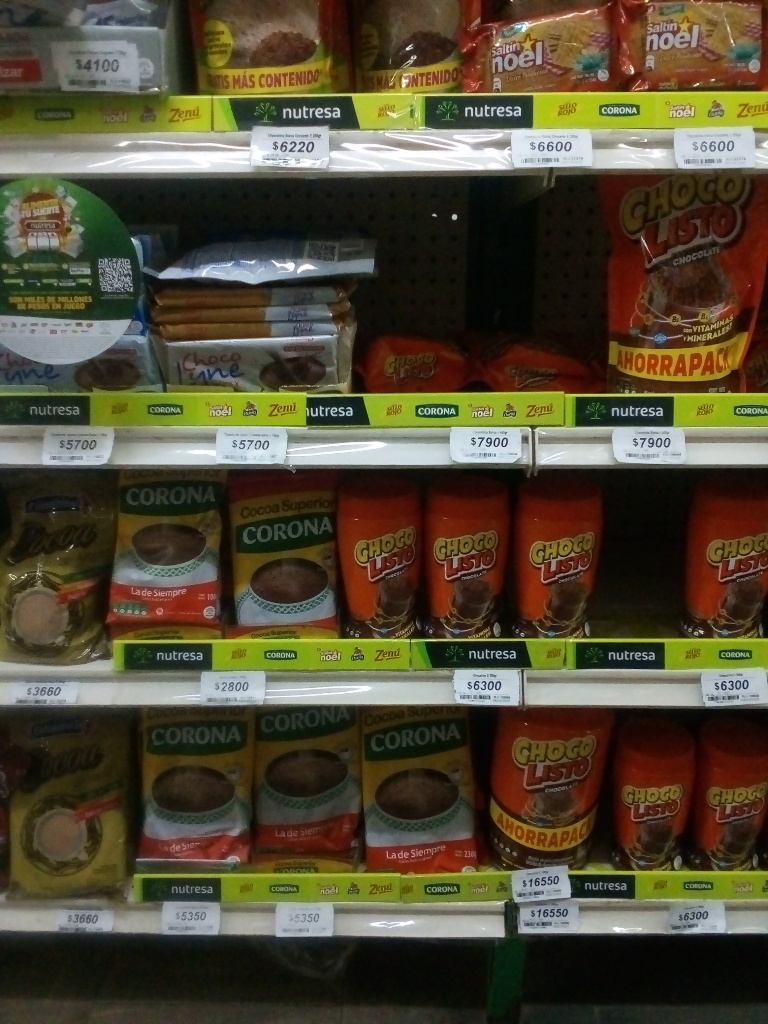COL0170103DYP36000: (598, 177, 762, 394)
COL0170103TRR00100: (488, 708, 607, 870)
COL0170103TRR30000: (330, 493, 424, 644)
